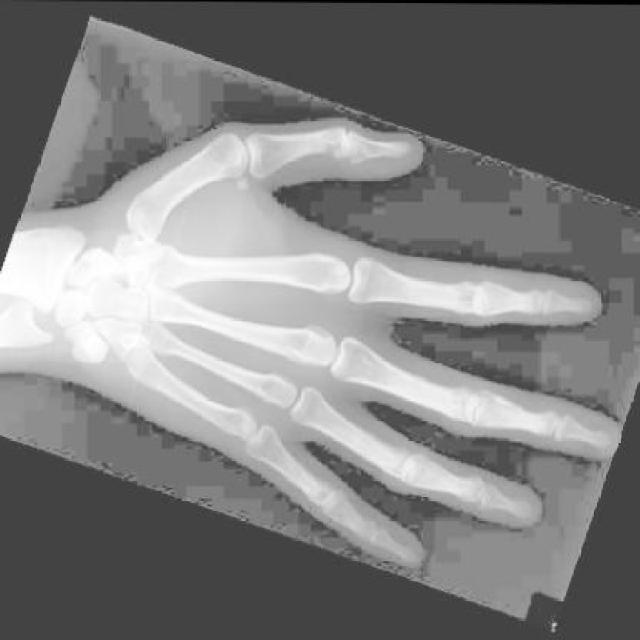Fracture: (68, 237, 124, 291)
